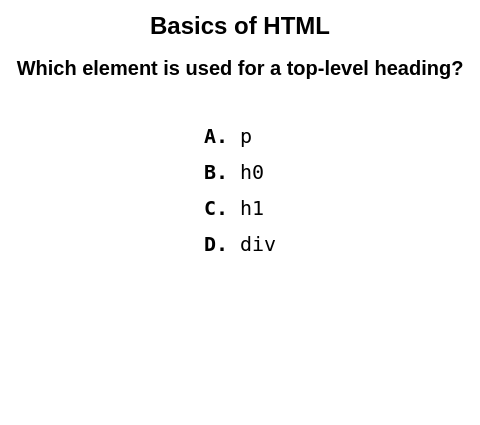
Test: QuizScreen component within App › when the user selects an answer › should render 'Next' button
Click the list item with test id "choice-0".
click(246, 136)  # box [240, 124, 252, 148]
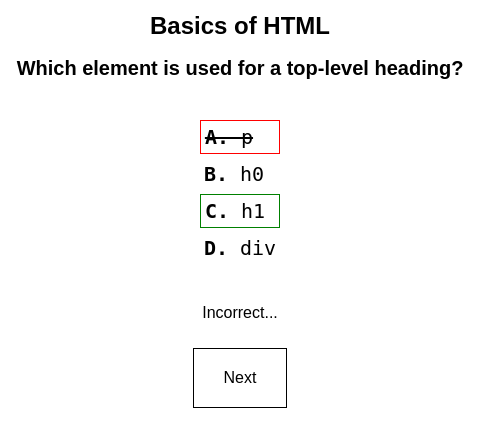
Expected: the button "Next" is shown, [192, 348, 287, 408]
